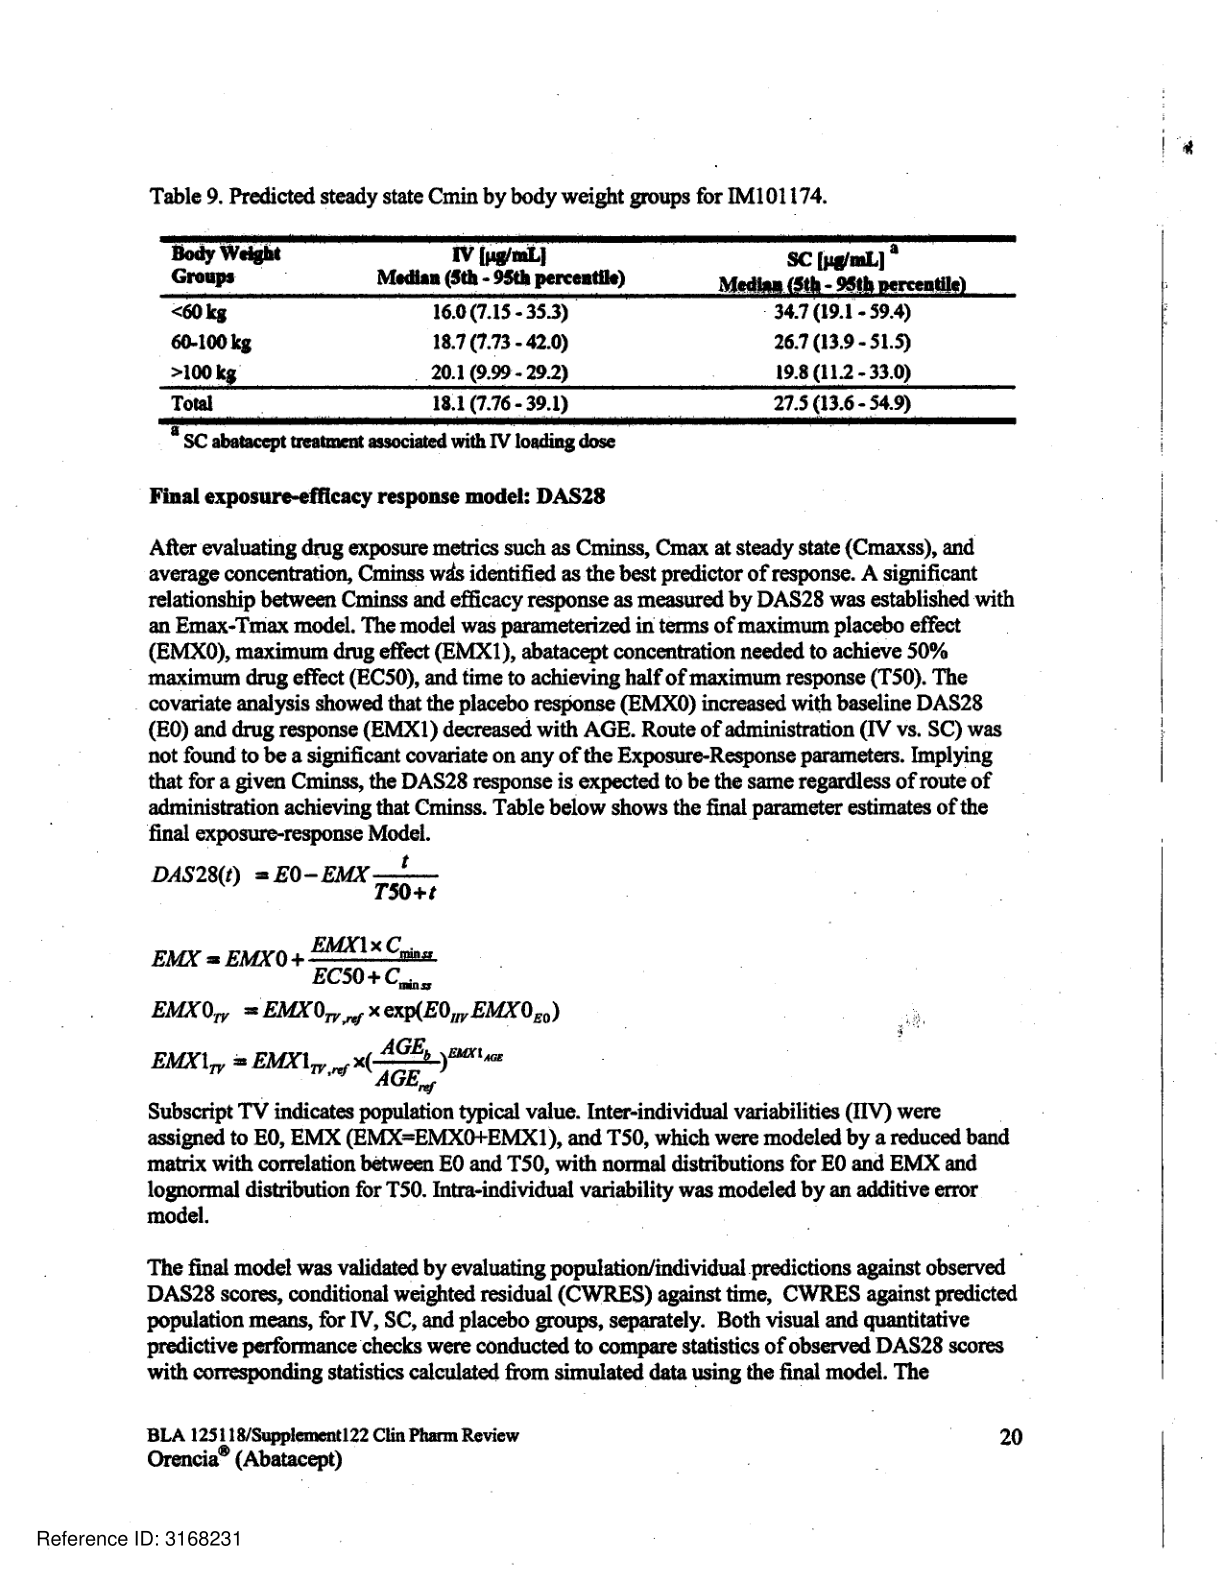partial_lined: (155, 235, 1017, 425)
